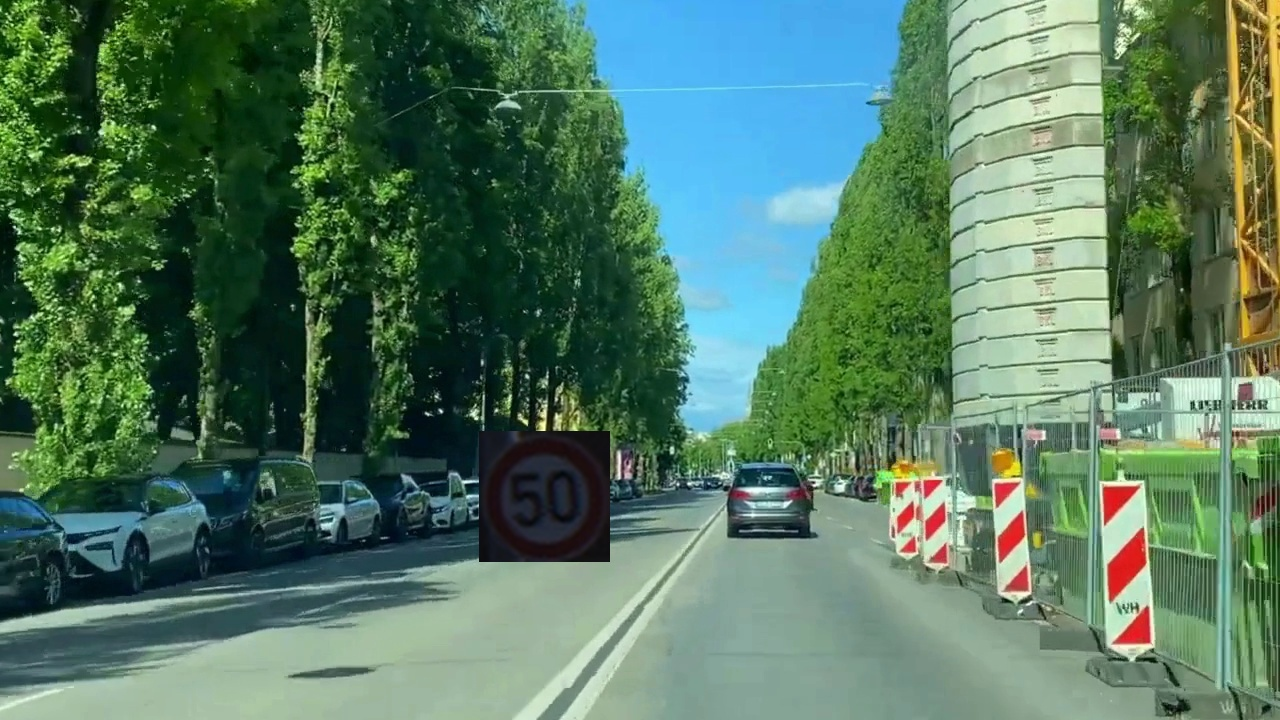Speed 50: (479, 431, 610, 562)
